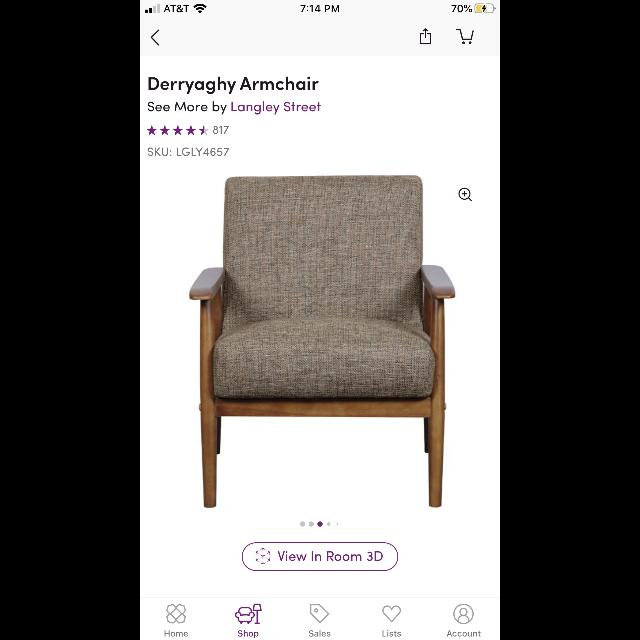icon: (148, 126, 208, 136), (453, 604, 473, 624), (310, 604, 330, 624), (383, 606, 401, 622), (456, 30, 474, 44), (458, 188, 472, 202), (420, 29, 430, 45), (151, 30, 159, 46)
image: (189, 176, 455, 508), (236, 604, 262, 624), (167, 604, 186, 624)
pageindicator: (300, 522, 338, 526)
text: (150, 78, 318, 94), (147, 102, 320, 115), (148, 148, 230, 156), (446, 630, 480, 636), (239, 630, 259, 638), (165, 631, 188, 637), (213, 126, 229, 134), (310, 630, 330, 636), (383, 630, 401, 636)
textbutton: (242, 543, 398, 571)
uppertaskbar: (140, 0, 500, 14)
